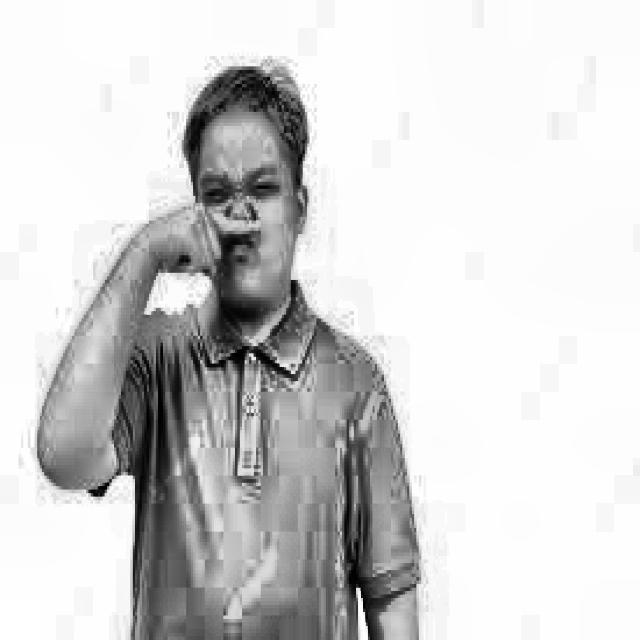disgust: (154, 38, 332, 316)
